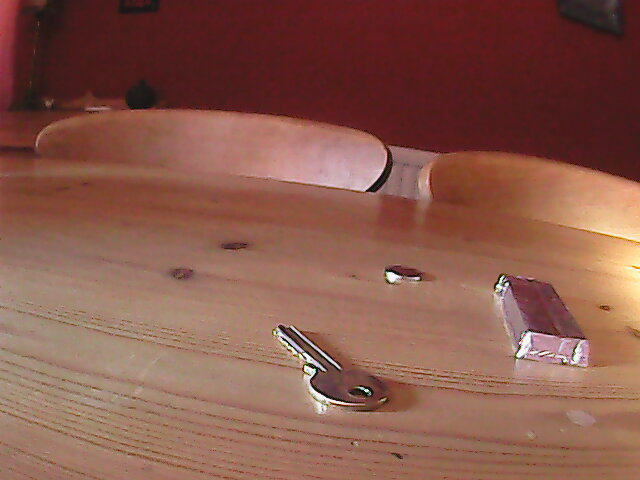Coin: (382, 262, 424, 284)
Foil: (493, 271, 592, 371)
Key: (271, 321, 393, 410)
